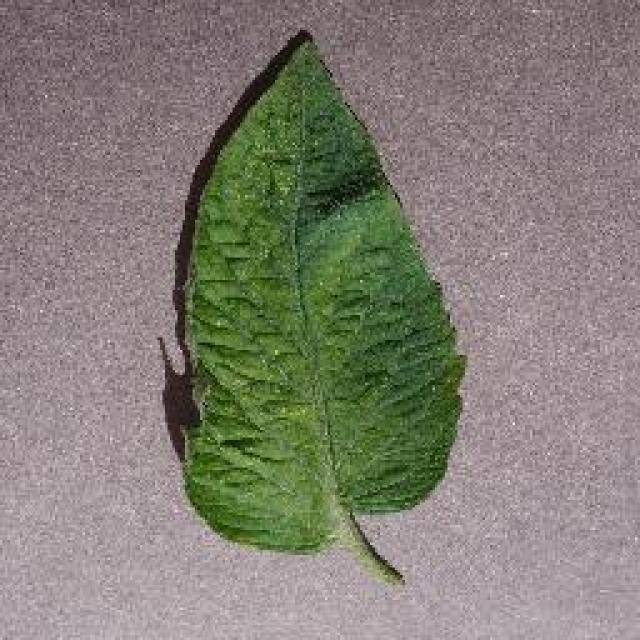Tomato___Spider_mites Two-spotted_spider_mite: (185, 42, 462, 580)
